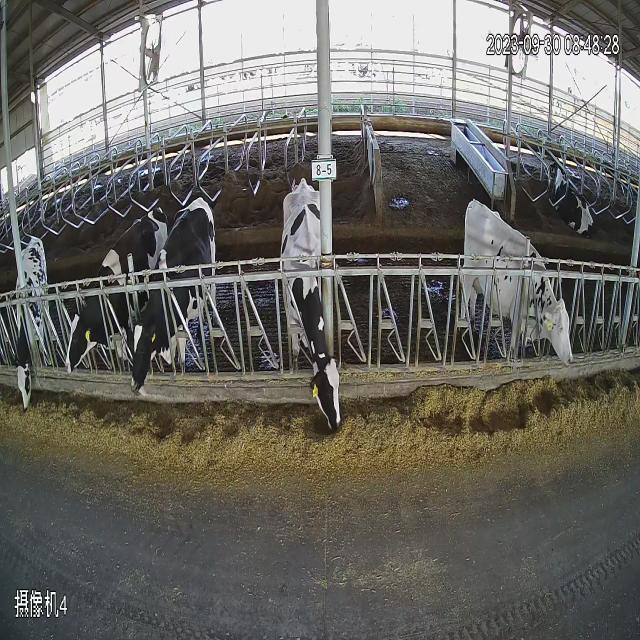feeding: (270, 154, 376, 486), (120, 180, 240, 470), (456, 176, 577, 447), (64, 192, 172, 471), (0, 215, 61, 473)
lying down: (545, 132, 600, 243)
